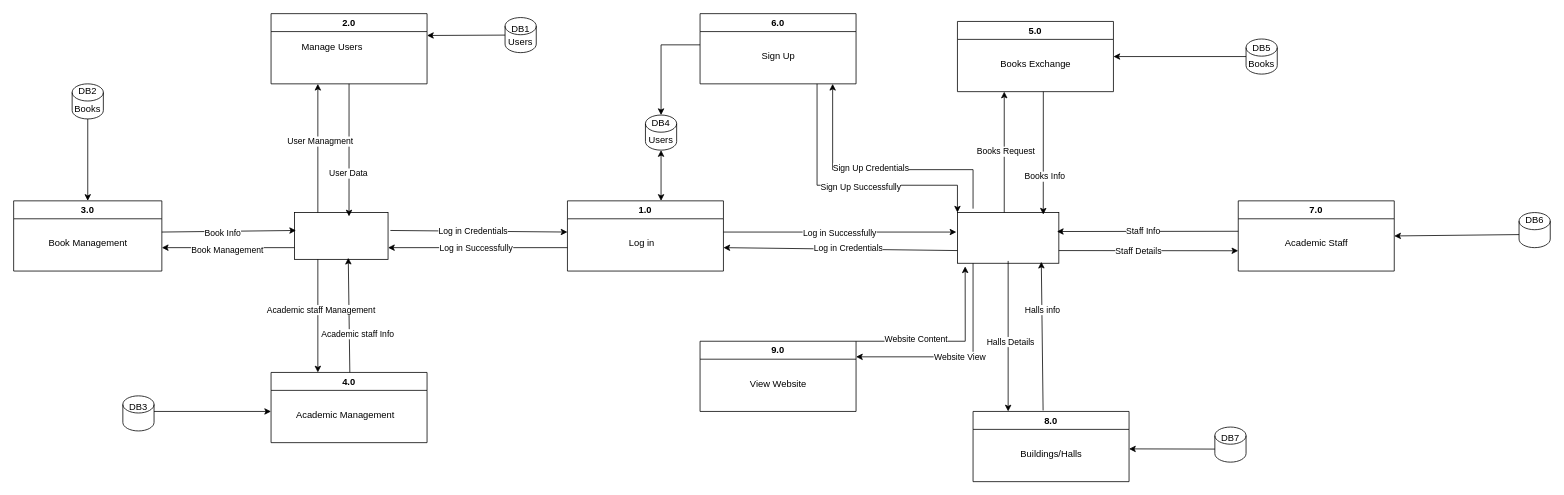
The diagram is 1564 pixels wide and 495 high, and some of its shapes have lost their labels. The box of each missing label's shape, as (x1, y1, x2, y2) in pixels:
Accademic: (122, 395, 154, 431)
Admin: (294, 212, 388, 259)
Halls: (1214, 426, 1246, 462)
Staff: (1518, 212, 1550, 248)
Student: (957, 212, 1059, 263)
